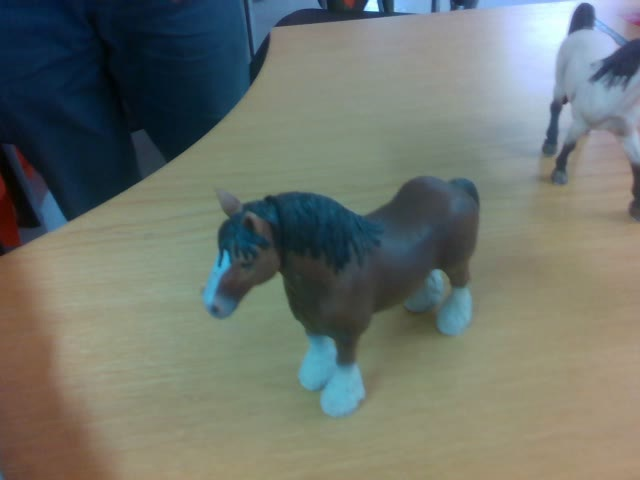toy: (203, 177, 480, 419)
